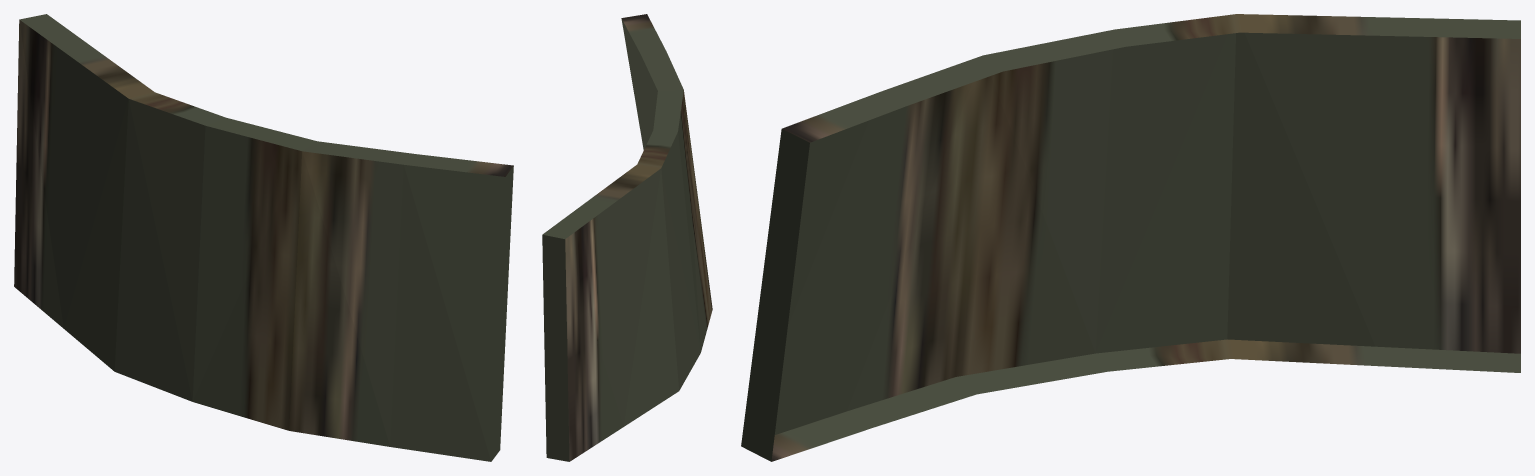
File: sherman_turret_m0.obj
3 renders of one model, left to right at view 1: azimuth 30°, elevation 25°; view 2: azimuth 150°, elevation 25°; view 3: azimuth 270°, elevation 25°, orthographic. The views are drawn at different scales.
Visible parts, largest first — view 1: sherman_turret_m0; view 2: sherman_turret_m0; view 3: sherman_turret_m0.
Boxes of the visible parts, box(x1,y1,x2,y2) form: sherman_turret_m0: box(14, 14, 513, 461); sherman_turret_m0: box(542, 14, 712, 461); sherman_turret_m0: box(741, 14, 1520, 461).
Size of the model in its own units: 0.4112 by 0.4645 by 0.9372.
Materials: 1 (1 with a texture image).
